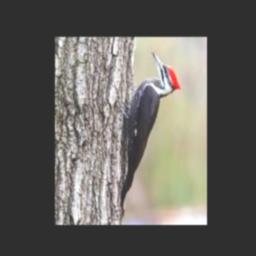Woodpecker: (118, 51, 182, 215)
